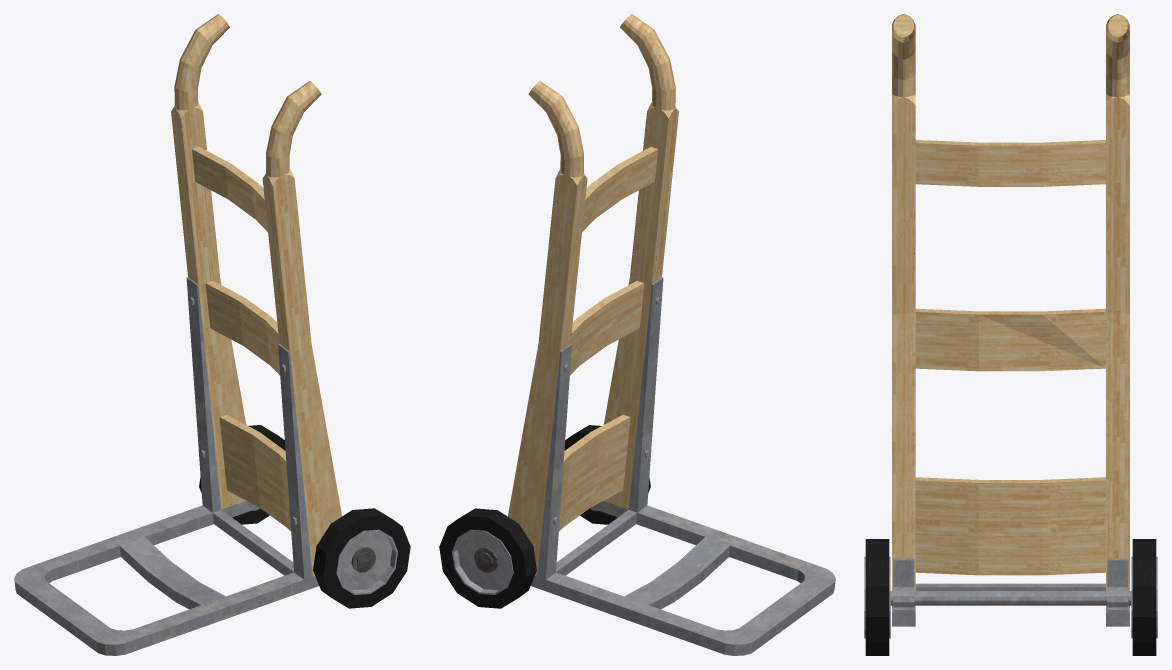
File: SackTruck1.fbx
3 views of the same model, side by side, from view 1: azimuth 30°, elevation 25°; view 2: azimuth 150°, elevation 25°; view 3: azimuth 270°, elevation 25° (orthographic). The views are drawn at different scales.
Parts seen in each view (by area): view 1: default; view 2: default; view 3: default.
Boxes of the visible parts, x1=… form: default: x1=14, y1=14, x2=410, y2=655; default: x1=439, y1=14, x2=835, y2=655; default: x1=864, y1=14, x2=1157, y2=655.
Size of the model in its own units: 66.39 by 114 by 49.24.
